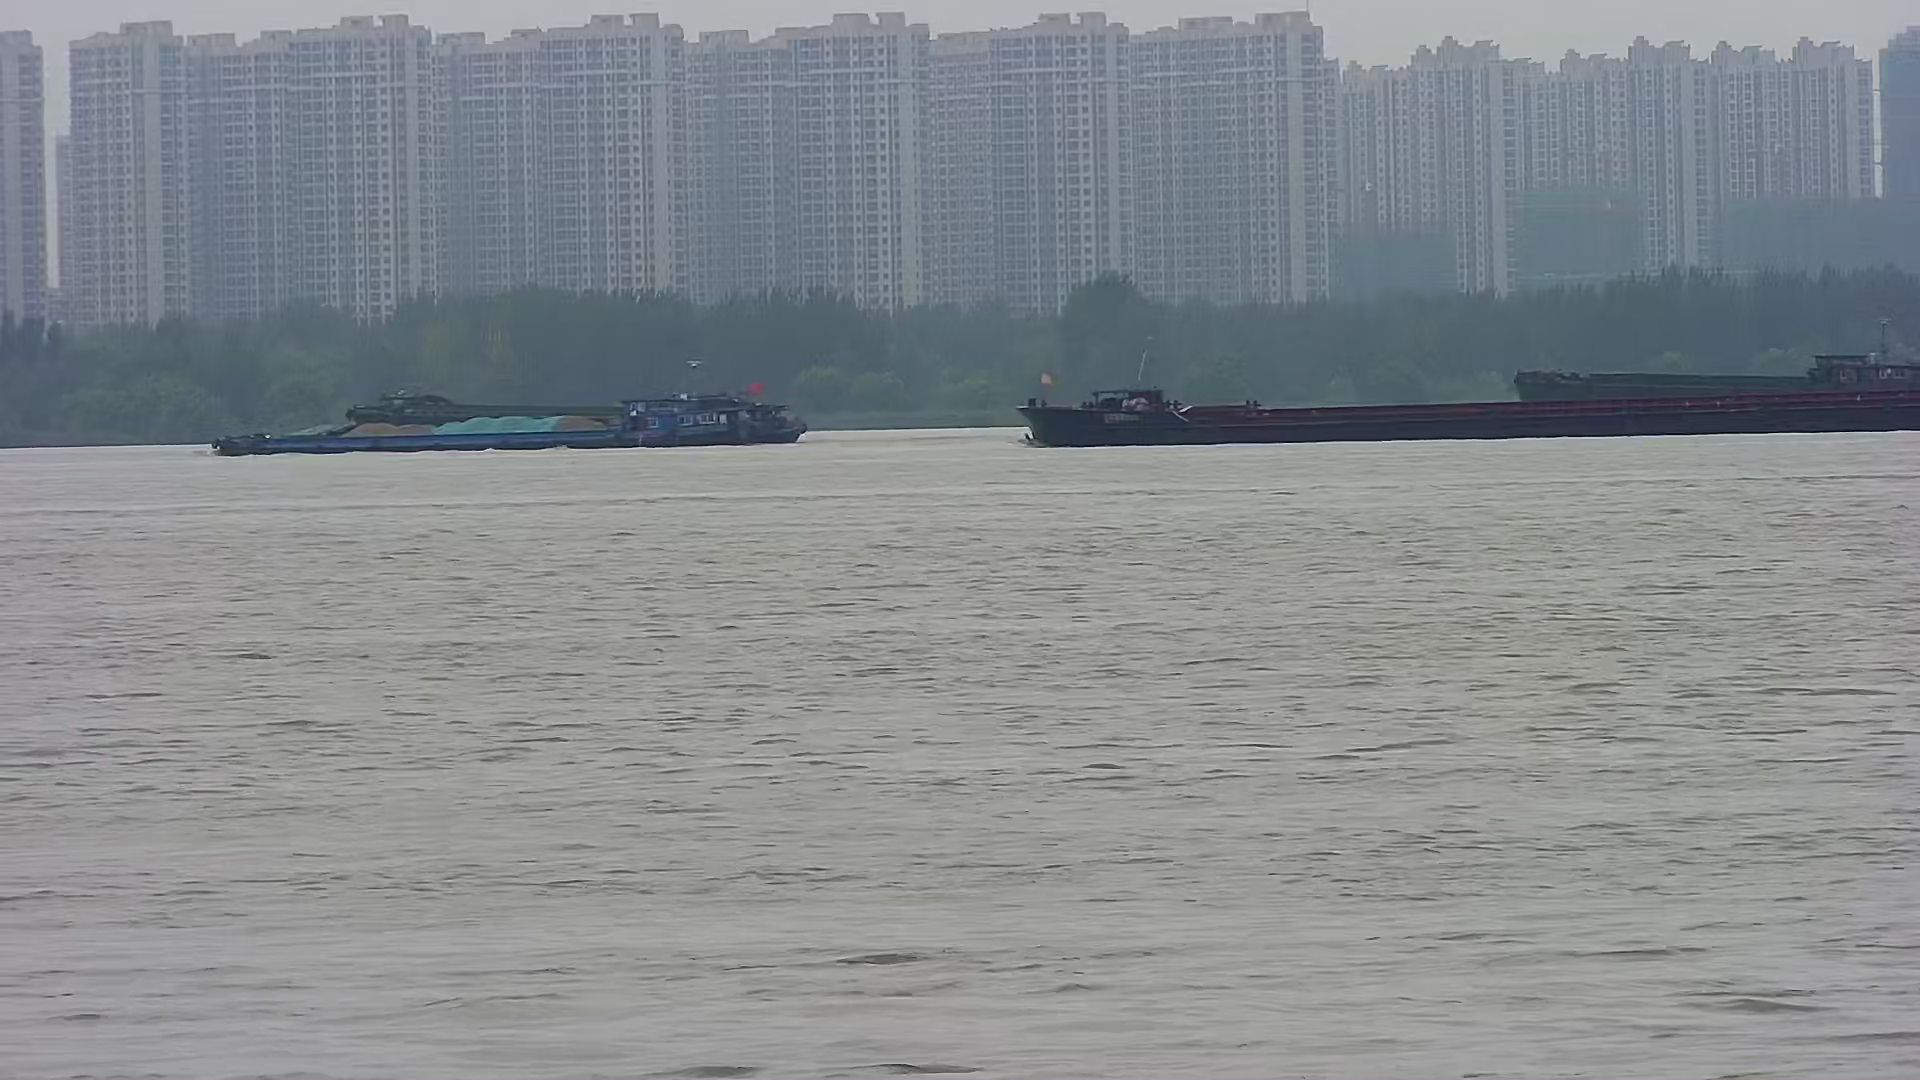ship: (1014, 361, 1920, 454), (208, 360, 812, 451), (1507, 349, 1920, 410)
